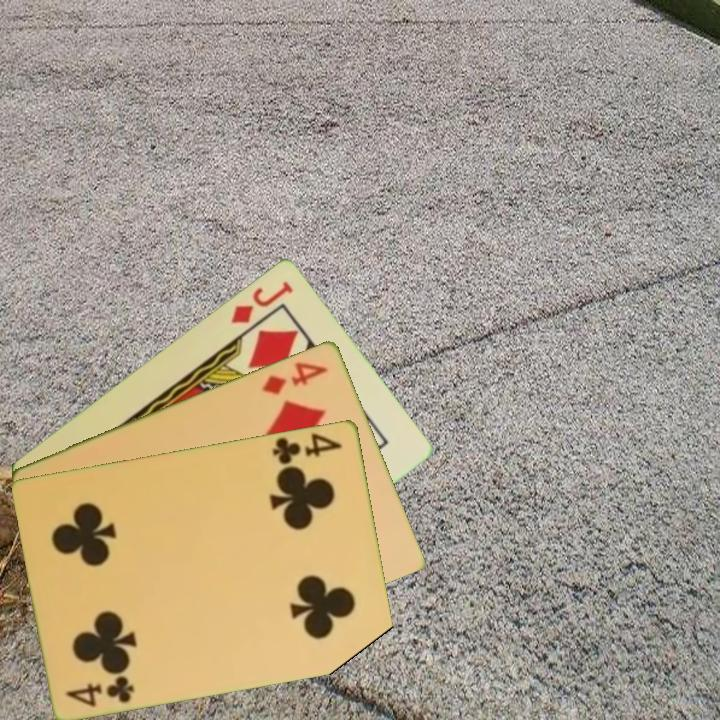4c: (269, 429, 345, 467), (63, 672, 138, 709)
4d: (259, 357, 331, 397)
Jd: (227, 276, 297, 326)
